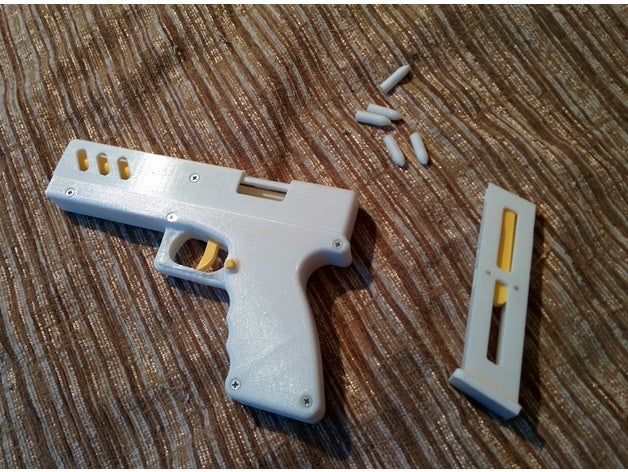Good: (15, 54, 587, 436)
